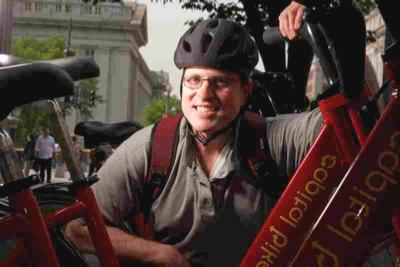With Helmet: (166, 21, 262, 131)
